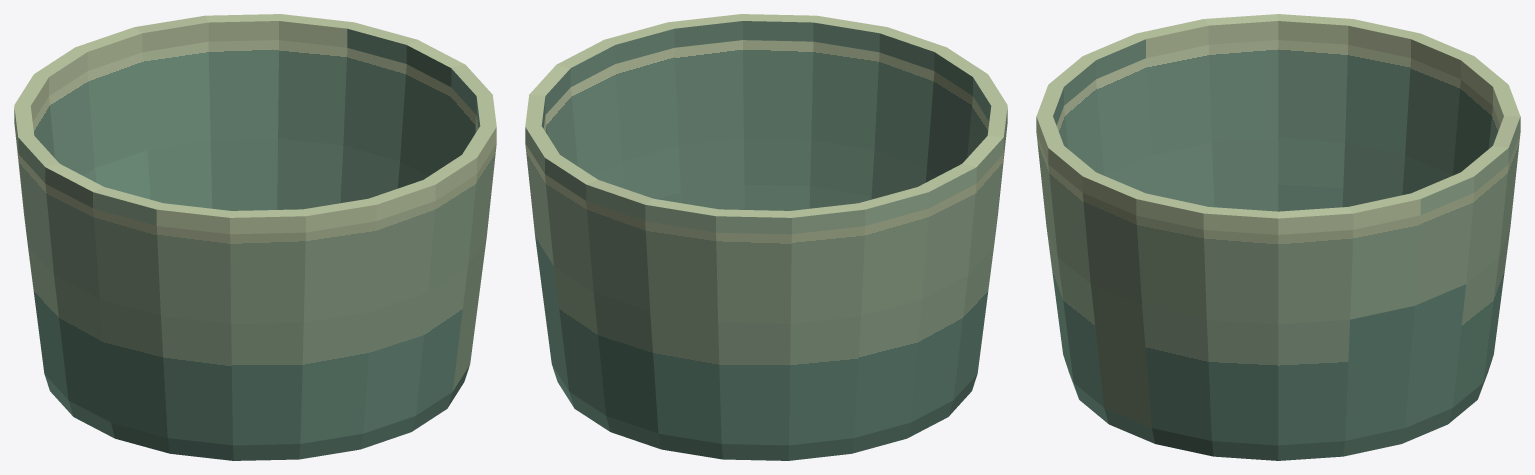
File: vessel-kasama.glb
3 views of the same model, side by side, from view 1: azimuth 30°, elevation 25°; view 2: azimuth 150°, elevation 25°; view 3: azimuth 270°, elevation 25° (orthographic).
Parts seen in each view (by area): view 1: vessel-kasama/complete-inner-outer-shell-with-drainage; view 2: vessel-kasama/complete-inner-outer-shell-with-drainage; view 3: vessel-kasama/complete-inner-outer-shell-with-drainage.
Part boxes in pixels (x1,y1,x2,y2): vessel-kasama/complete-inner-outer-shell-with-drainage: (14,14,496,460); vessel-kasama/complete-inner-outer-shell-with-drainage: (525,14,1007,460); vessel-kasama/complete-inner-outer-shell-with-drainage: (1036,14,1520,460).
Bounding box in the file's own units: 0.322 × 0.201 × 0.322.
Materials: 1 (1 with a texture image).
